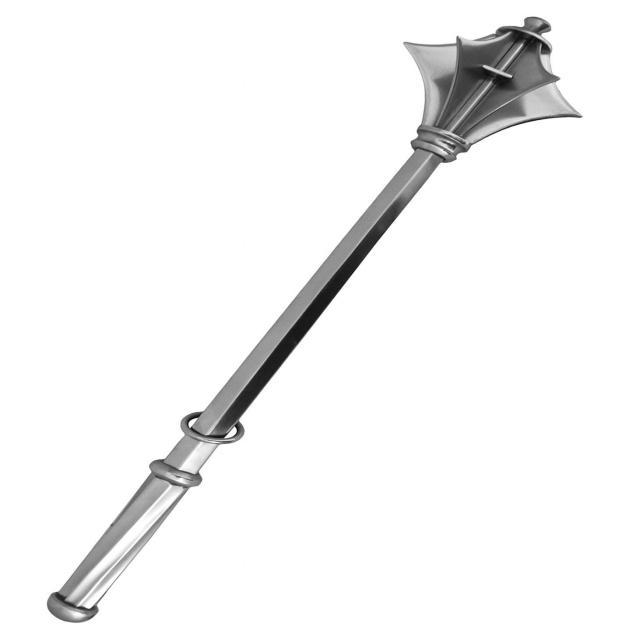mace: (45, 17, 583, 625)
